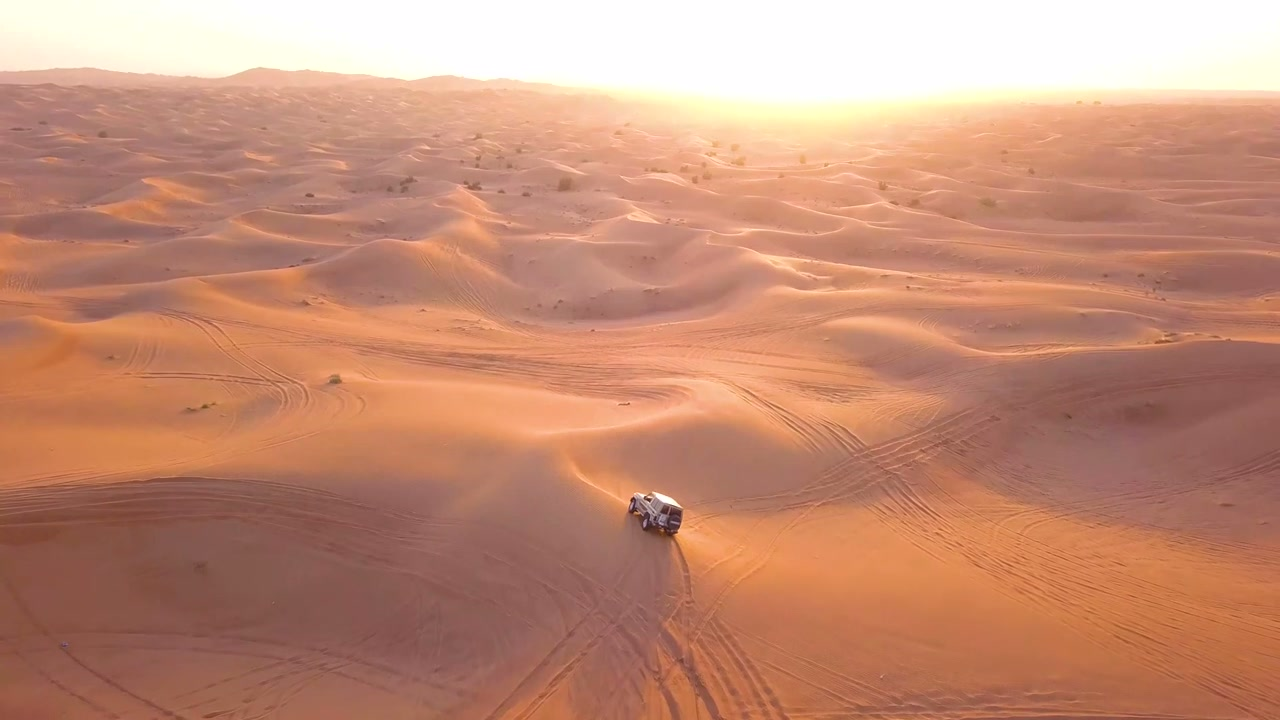vehicle_track: (782, 372, 1270, 712), (872, 468, 1279, 717), (0, 478, 521, 616), (12, 320, 365, 485), (486, 552, 775, 719), (810, 402, 1062, 577), (217, 318, 696, 399), (59, 630, 463, 712), (707, 407, 1000, 514), (168, 313, 363, 451), (484, 562, 637, 719), (169, 312, 313, 446), (745, 634, 898, 706), (722, 379, 866, 454), (0, 637, 120, 719), (62, 644, 186, 719), (699, 617, 787, 719), (725, 380, 833, 454), (0, 373, 100, 404), (117, 332, 160, 375), (0, 270, 39, 293)
